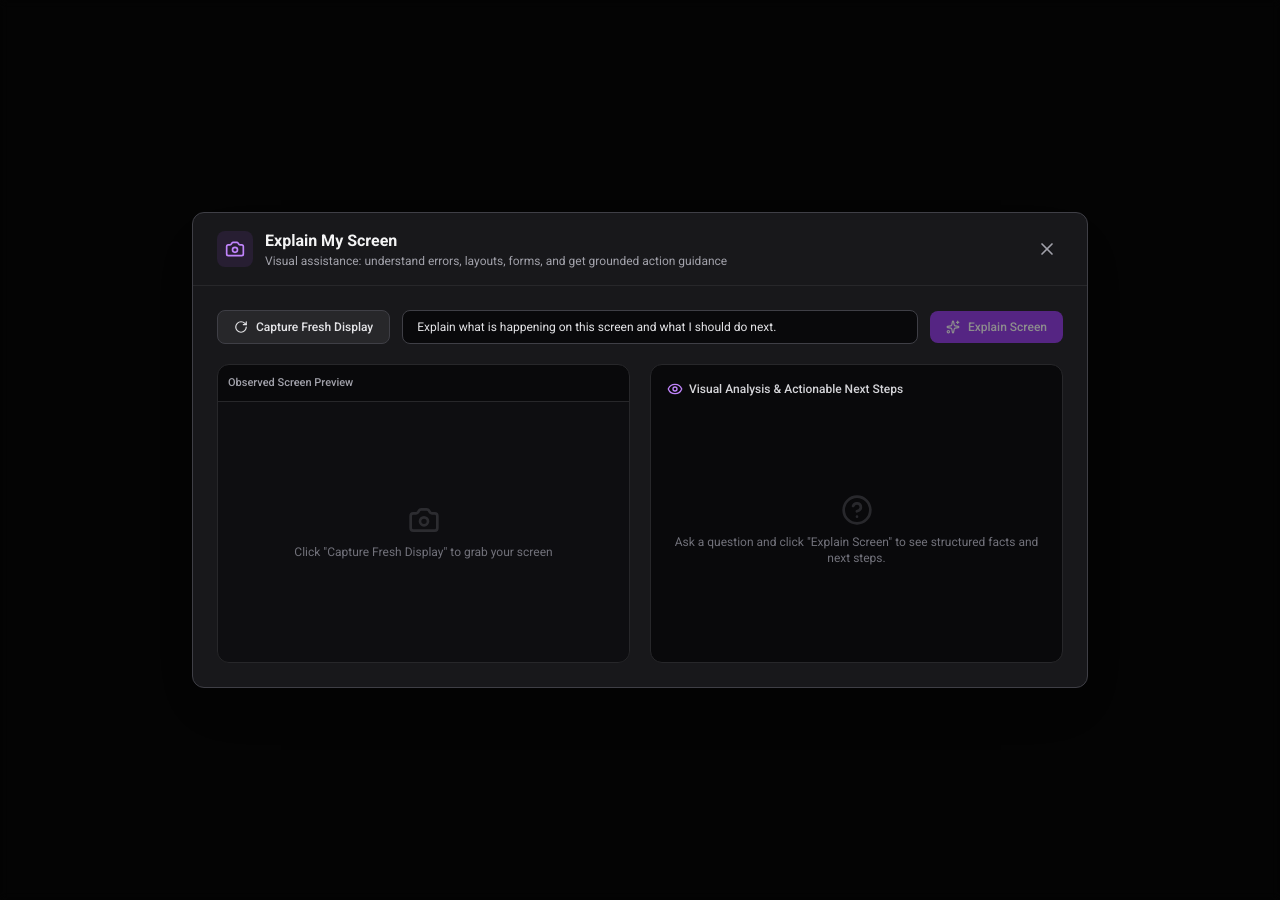
Test: Frontend Climax to 95%+ Coverage Suite › ScreenExplainerModal Error Handling and Inputs › handles empty screenshot error notice, custom question input, and action execution error
The image size is (1280, 900).
Note: Typing question into input
Replace the text in the field with placeholder "Ask what you need help with" with "Where is the submit error?" at (660, 327), box [402,310,918,344]
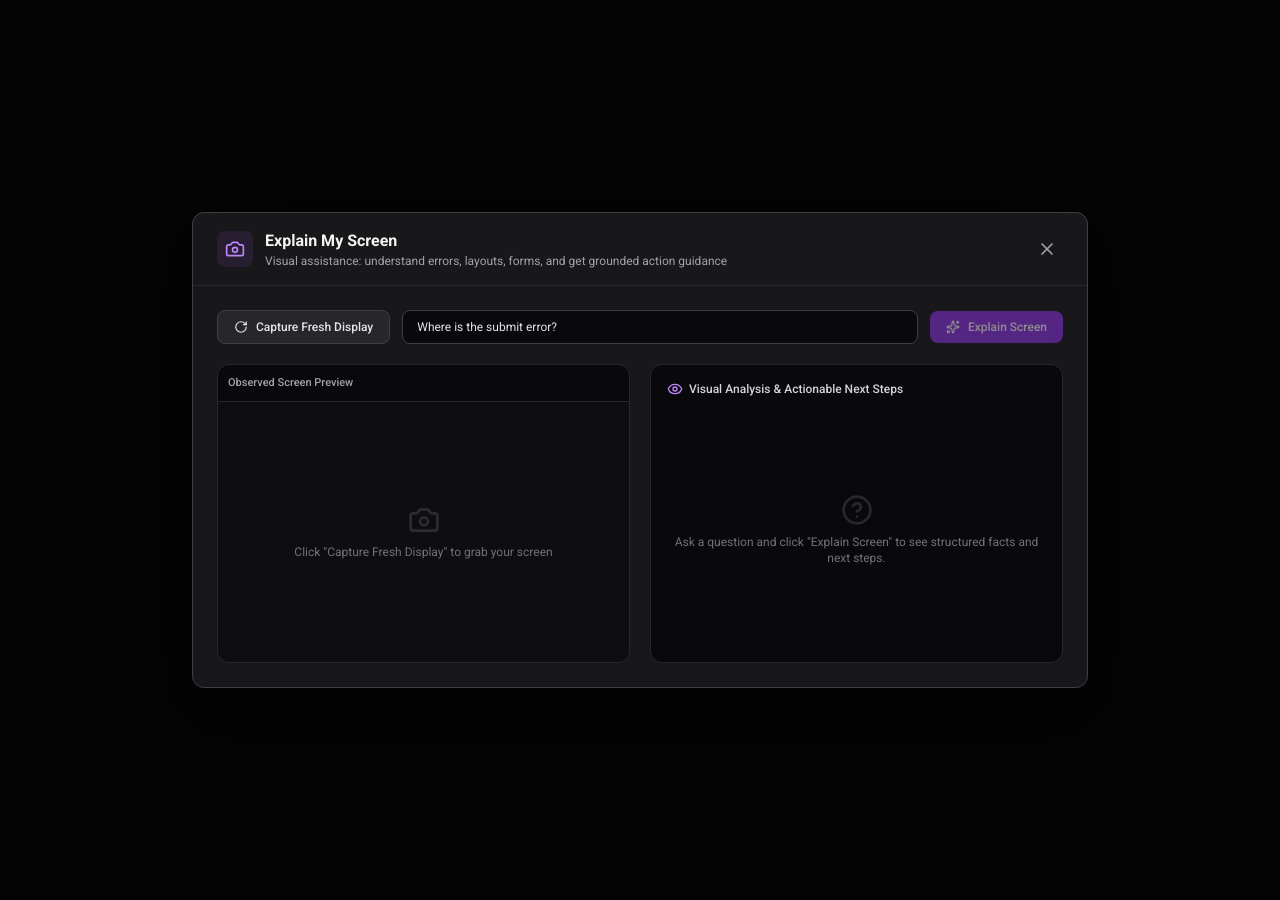
Note: Capture fresh display
Click the button "Capture Fresh Display" at (304, 327), box [217,310,390,344]
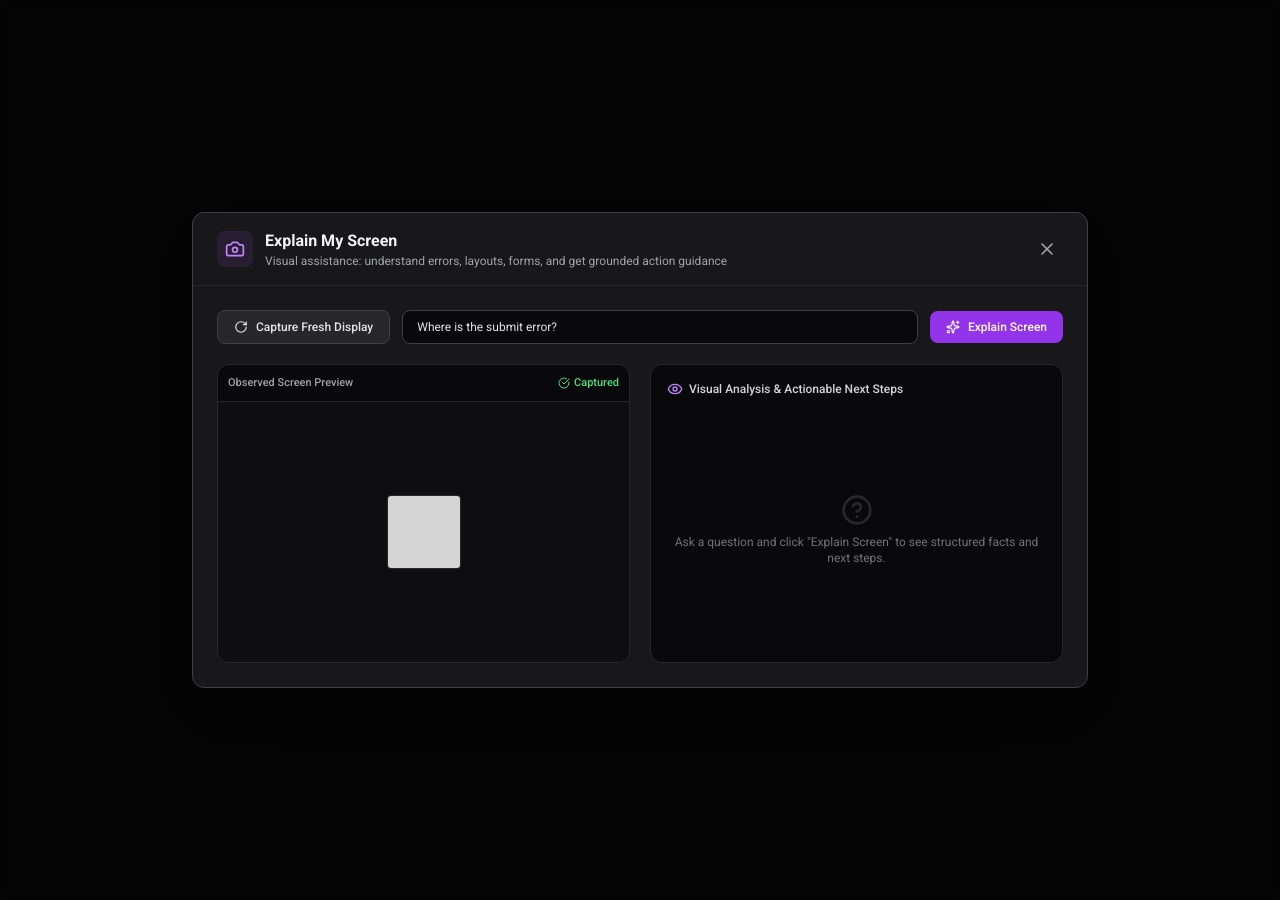
Expected: the text "Explain Screen" is enabled, [968,319,1047,335]
Note: Click analyze
Click the button "Explain Screen" at (996, 327), box [930,311,1063,343]
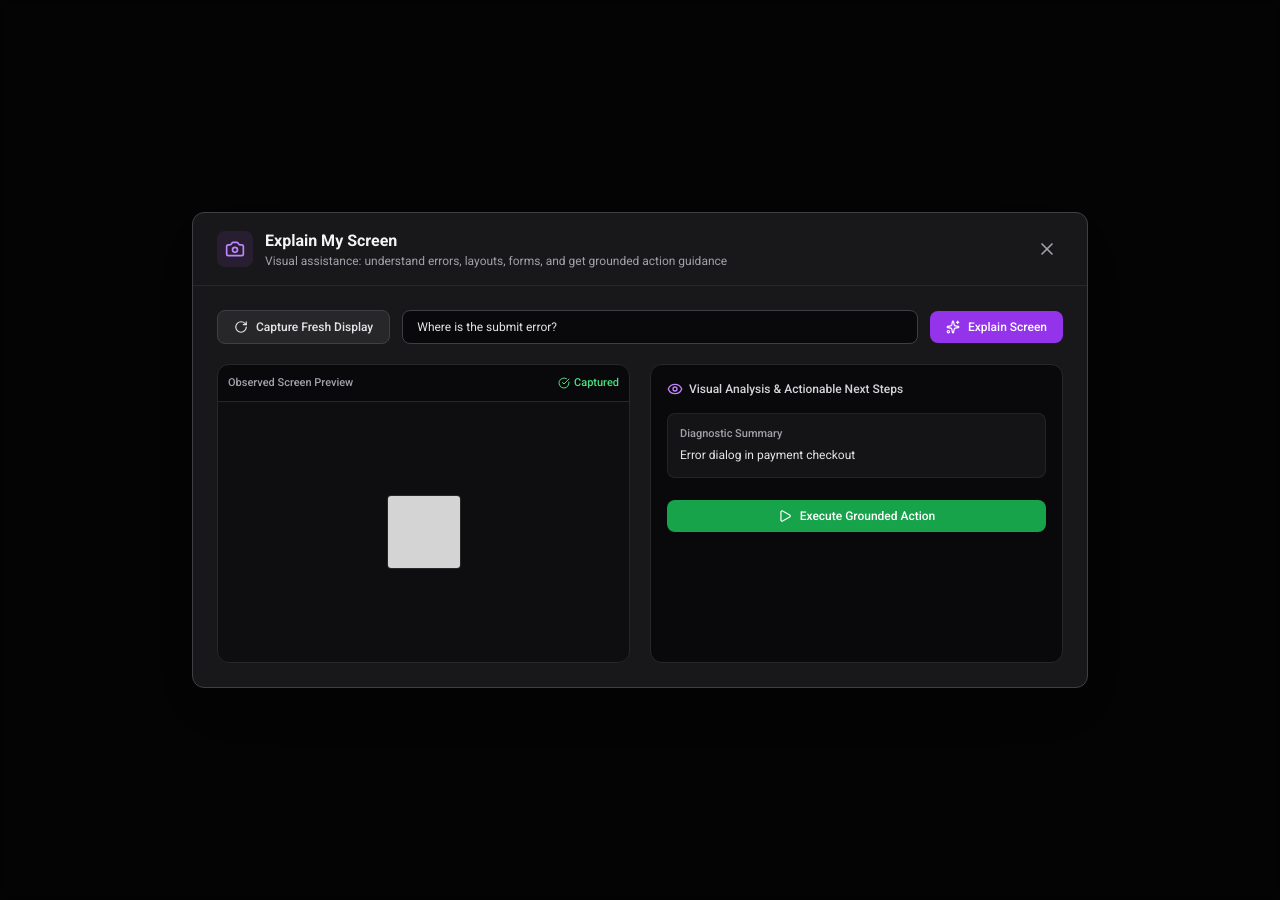
Expected: the text "Error dialog in payment checkout" is shown, [680,448,855,462]
Expected: the text "Execute Grounded Action" is shown, [800,508,935,524]
Note: Execute fix (triggers catch block in handleExecuteRecommendedAction)
Click the button "Execute Grounded Action" at (856, 516), box [667,500,1046,532]
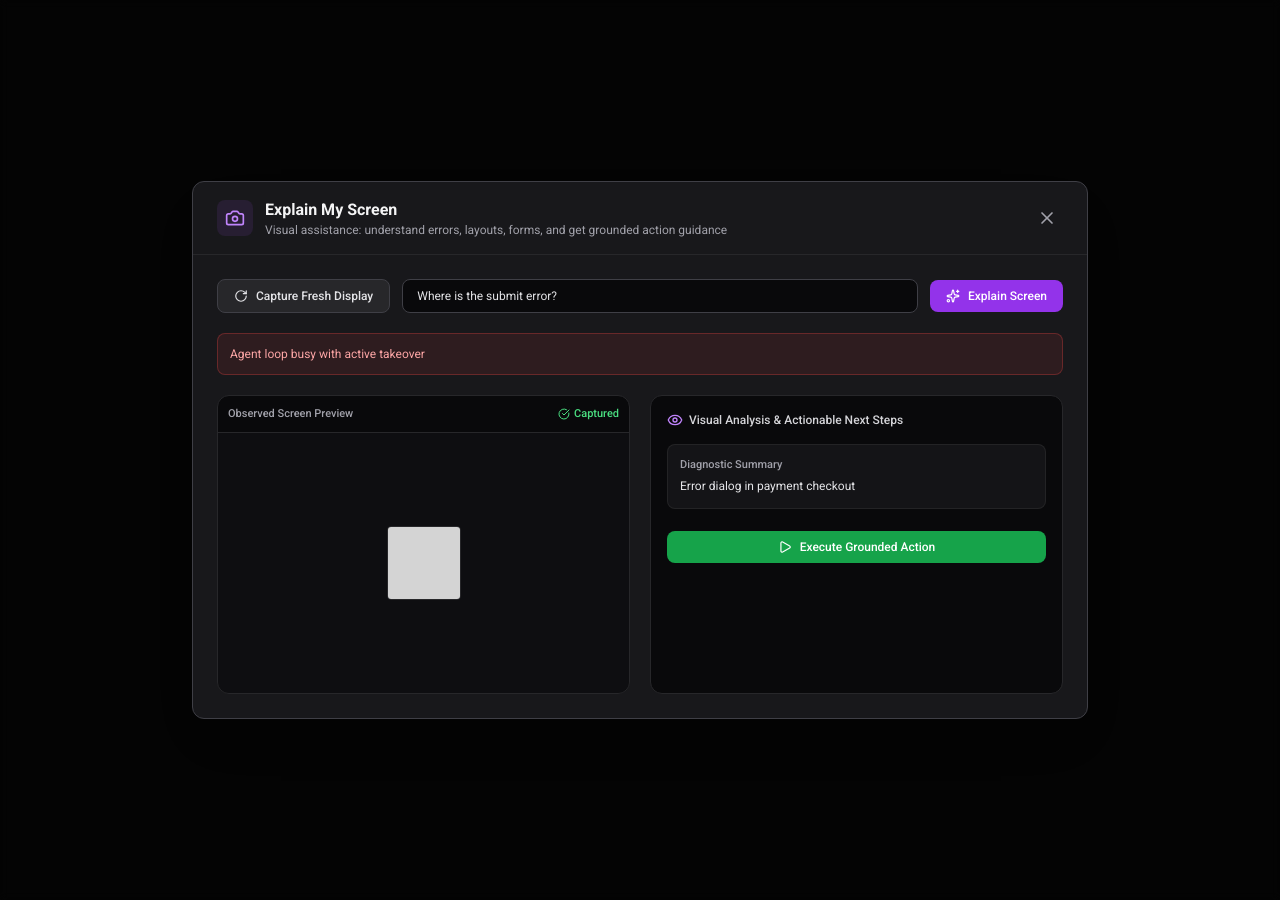
Expected: the text "Agent loop busy with active takeover" is shown, [217,333,1063,375]
